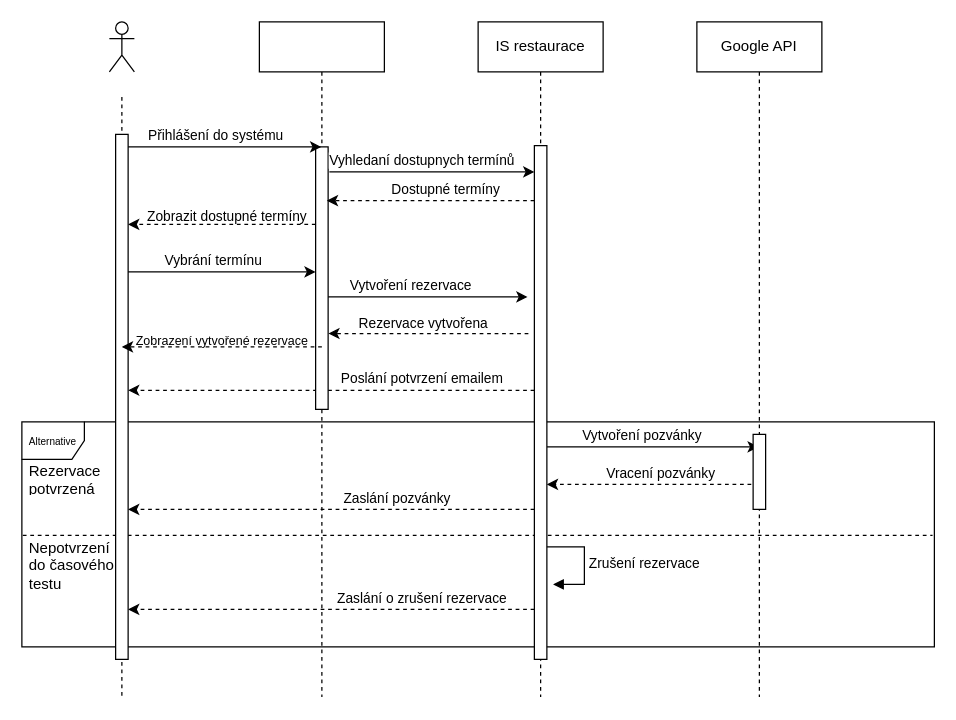
The diagram is 956 pixels wide and 720 high, and some of its shapes have lost their labels. Here are the shapes that lost their labels. From the top down, the box of each, then its label:
(108, 21, 134, 72): Personál
(258, 21, 384, 697): Web
